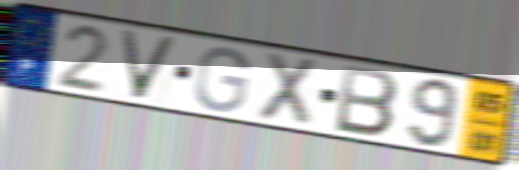2: (54, 22, 113, 95)
9: (405, 75, 461, 151)
B: (332, 62, 401, 140)
G: (192, 44, 253, 114)
V: (117, 27, 182, 102)
X: (253, 49, 322, 131)
